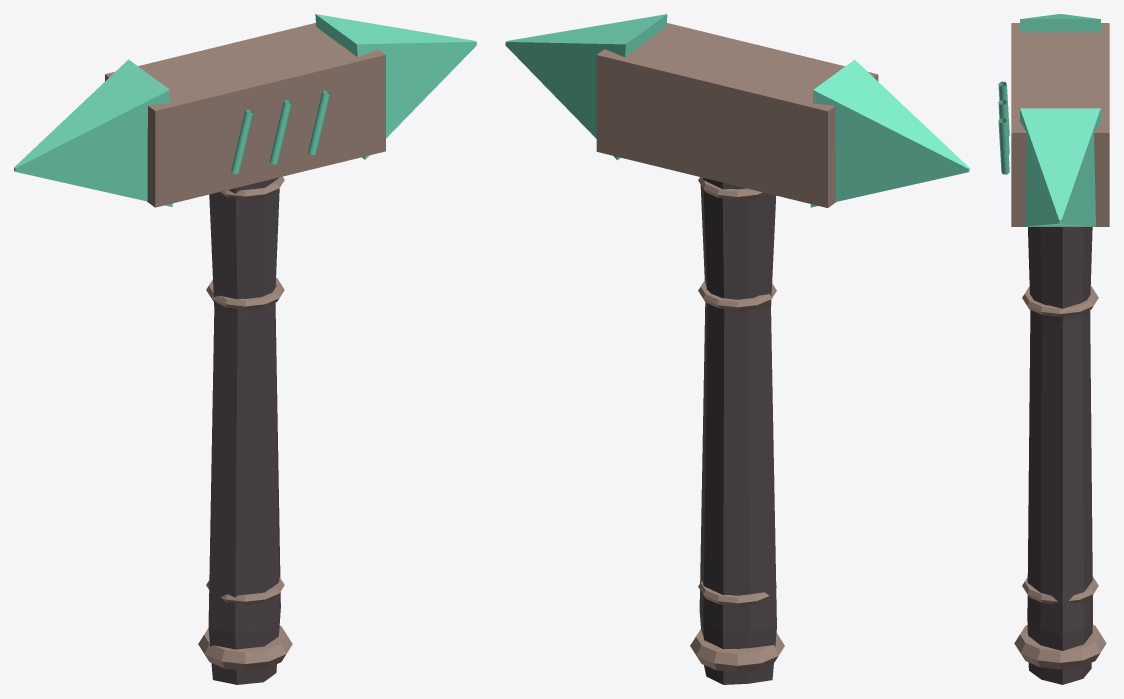
Rendered from BH_PICK_P21_Picareta_Glitch_Hacker_V01.glb.
3 renders of one model, left to right at view 1: azimuth 30°, elevation 25°; view 2: azimuth 150°, elevation 25°; view 3: azimuth 270°, elevation 25°, orthographic. The views are drawn at different scales.
Parts seen in each view (by area): view 1: Head | main crossbar.001, Handle | shaped shaft.001, Head | mining tooth L.001, Head | mining tooth R.001, Handle | pommel.001, Handle | binding 3.001; view 2: Head | main crossbar.001, Handle | shaped shaft.001, Head | mining tooth L.001, Head | mining tooth R.001, Handle | pommel.001, Handle | binding 3.001, Handle | binding 1.001; view 3: Handle | shaped shaft.001, Head | main crossbar.001, Head | mining tooth R.001, Handle | pommel.001, Head | mining tooth L.001, Handle | binding 3.001, Handle | binding 1.001, Core | code trace 3.001, Core | code trace 1.001, Core | code trace 2.001.
Boxes of the visible parts, x1,y1,x2,y2 form: Head | main crossbar.001: [105, 23, 385, 207]; Handle | shaped shaft.001: [208, 177, 280, 684]; Head | mining tooth L.001: [14, 59, 172, 206]; Head | mining tooth R.001: [315, 14, 476, 159]; Handle | pommel.001: [198, 625, 292, 670]; Handle | binding 3.001: [206, 277, 284, 309]; Head | main crossbar.001: [596, 23, 878, 207]; Handle | shaped shaft.001: [699, 178, 776, 684]; Head | mining tooth L.001: [810, 59, 969, 207]; Head | mining tooth R.001: [505, 14, 667, 160]; Handle | pommel.001: [690, 629, 784, 672]; Handle | binding 3.001: [698, 280, 776, 310]; Handle | binding 1.001: [698, 581, 776, 606]; Handle | shaped shaft.001: [1027, 227, 1092, 684]; Head | main crossbar.001: [1011, 23, 1109, 226]; Head | mining tooth R.001: [1020, 108, 1100, 226]; Handle | pommel.001: [1014, 625, 1106, 669]; Head | mining tooth L.001: [1020, 14, 1100, 32]; Handle | binding 3.001: [1022, 286, 1098, 316]; Handle | binding 1.001: [1022, 576, 1098, 603]; Core | code trace 3.001: [998, 118, 1009, 174]; Core | code trace 1.001: [998, 81, 1009, 136]; Core | code trace 2.001: [998, 100, 1009, 154].
Bounding box in the file's own units: 1.8 × 2.31 × 0.3847.
